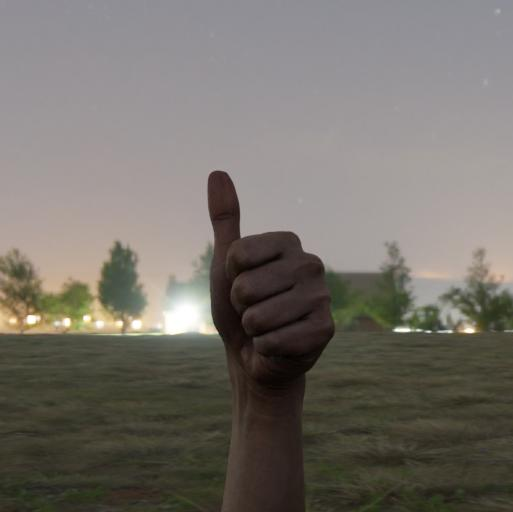thumbs-up: (203, 165, 344, 392)
